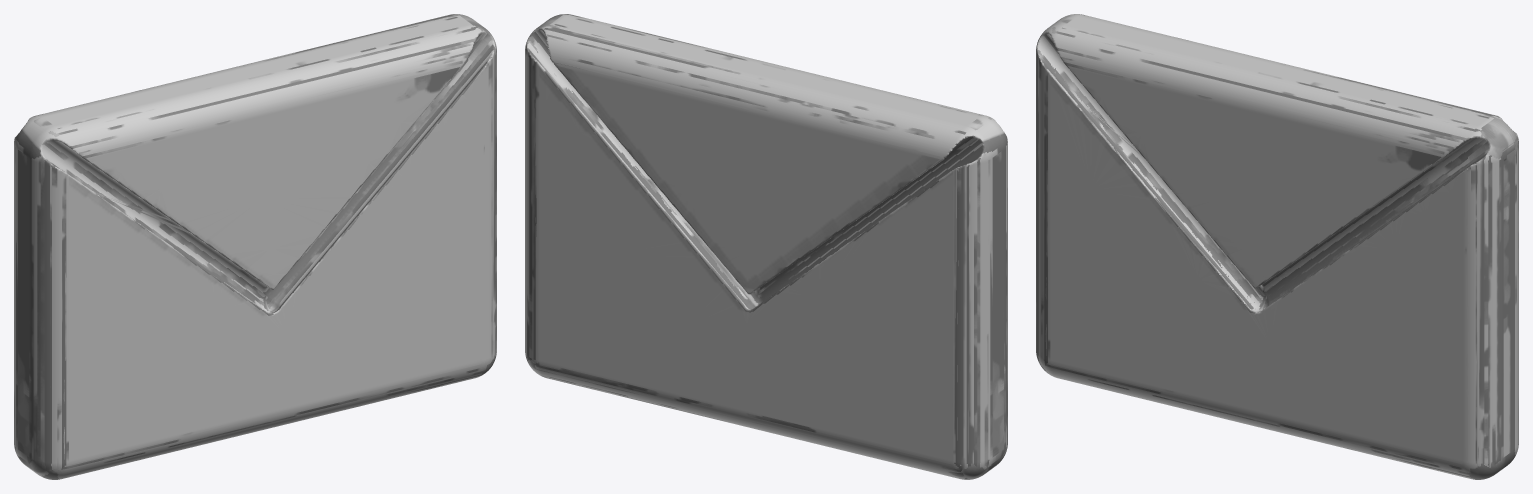
The model's file is email_compressed.glb.
3 views of the same model, side by side, from view 1: azimuth 30°, elevation 25°; view 2: azimuth 150°, elevation 25°; view 3: azimuth 330°, elevation 25° (orthographic).
Size of the model in its own units: 138 by 100 by 21.03.
Materials: 1 (1 with a texture image).
